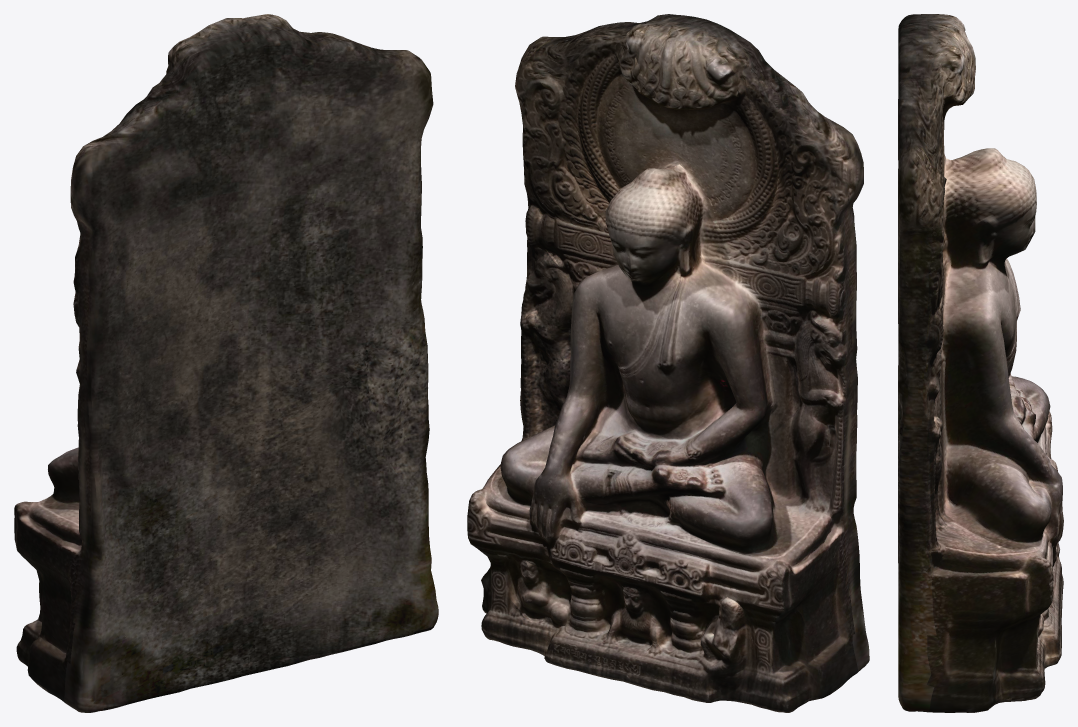
File: statue_buddha.gltf
3 views of the same model, side by side, from view 1: azimuth 30°, elevation 25°; view 2: azimuth 150°, elevation 25°; view 3: azimuth 270°, elevation 25° (orthographic). The views are drawn at different scales.
Size of the model in its own units: 19.69 by 32.67 by 8.15.
Materials: 1 (1 with a texture image).
